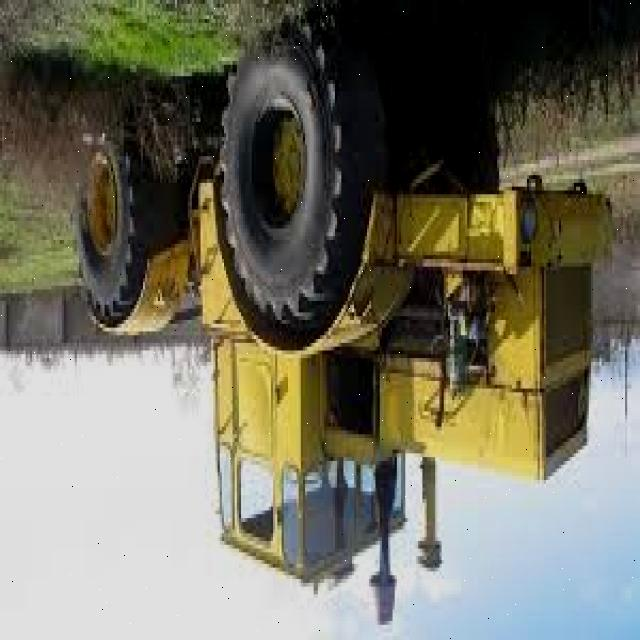Tratores - v5 YOLO V8L 2024-11-13: (71, 18, 614, 588)
